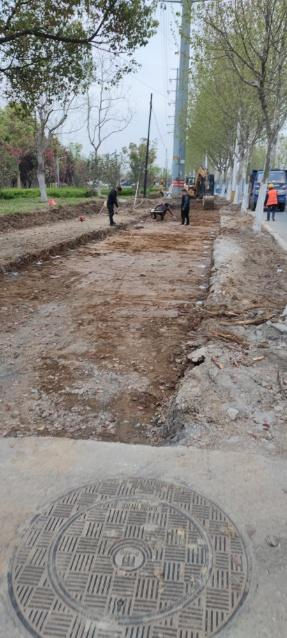wellcover: (7, 457, 267, 638)
